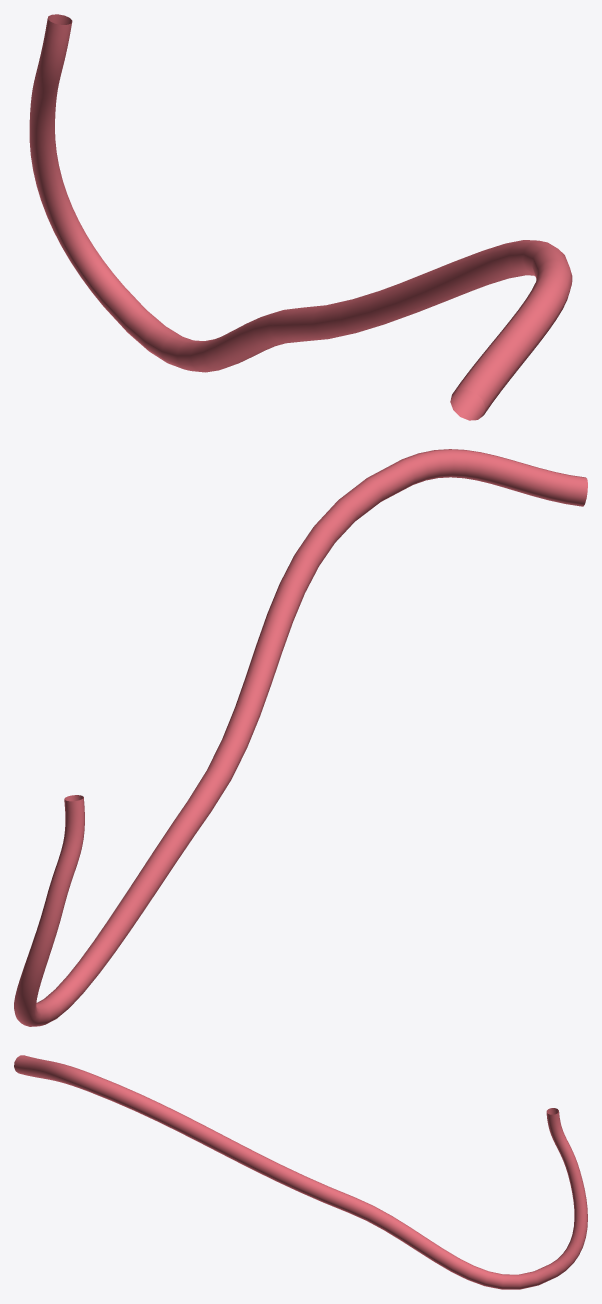
3 views of the same model, one above another, from view 1: azimuth 30°, elevation 25°; view 2: azimuth 150°, elevation 25°; view 3: azimuth 270°, elevation 25° (orthographic). The views are drawn at different scales.
Visible parts, largest first — view 1: ZA_f41a23d73f12d970; view 2: ZA_f41a23d73f12d970; view 3: ZA_f41a23d73f12d970.
Part boxes in pixels (box(x1,y1,x2,y2)): ZA_f41a23d73f12d970: box(29, 14, 572, 420); ZA_f41a23d73f12d970: box(14, 449, 587, 1026); ZA_f41a23d73f12d970: box(14, 1055, 587, 1289).
Size of the model in its own units: 0.0122 by 0.0217 by 0.0542.
